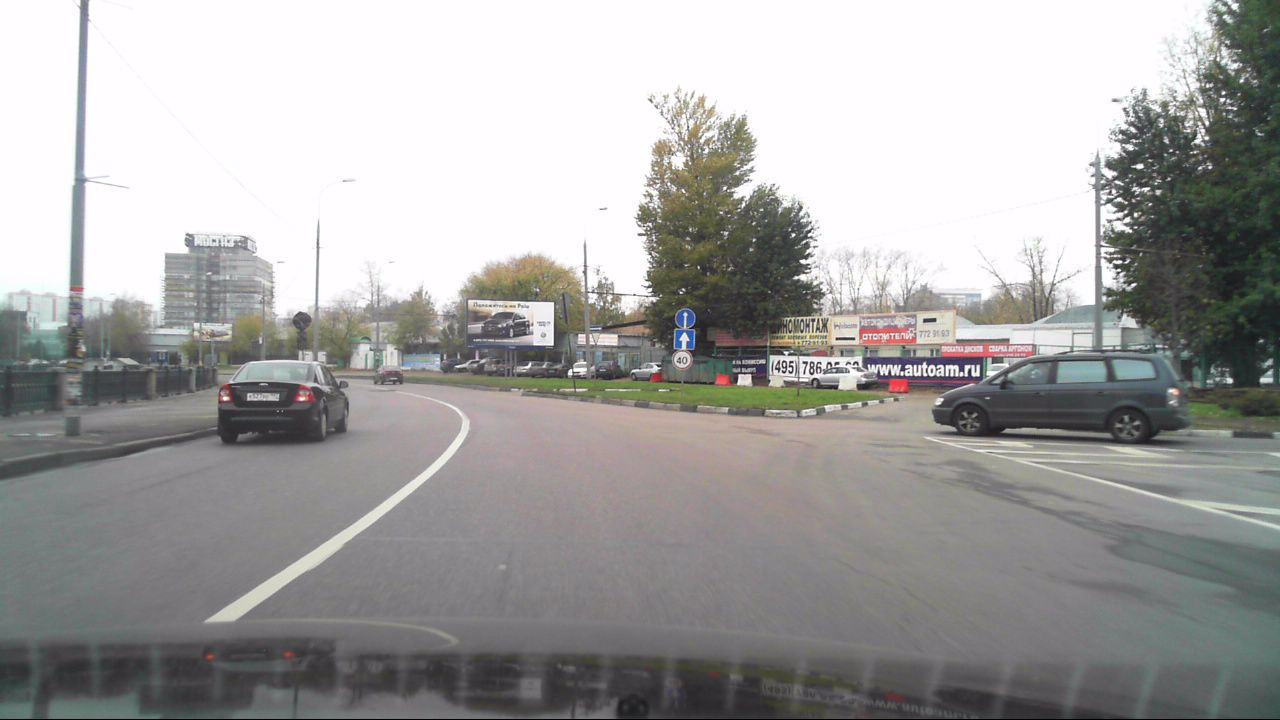speed_warning_40: (672, 349, 694, 369)
